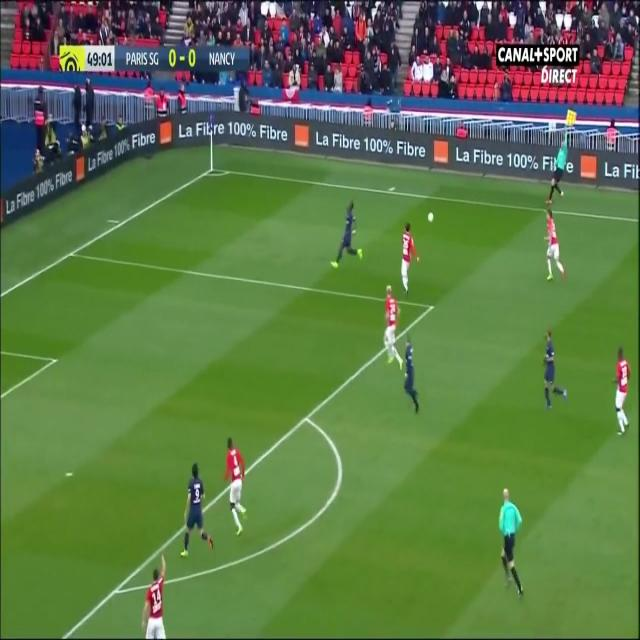Ball: (425, 208, 436, 228)
Player: (179, 461, 215, 560), (328, 195, 366, 272), (222, 436, 249, 536), (140, 548, 170, 638), (540, 329, 570, 411), (381, 284, 405, 372), (612, 345, 633, 438), (544, 207, 568, 282), (399, 220, 421, 296), (403, 336, 422, 416)
Referee: (496, 486, 530, 600), (543, 129, 569, 208)
